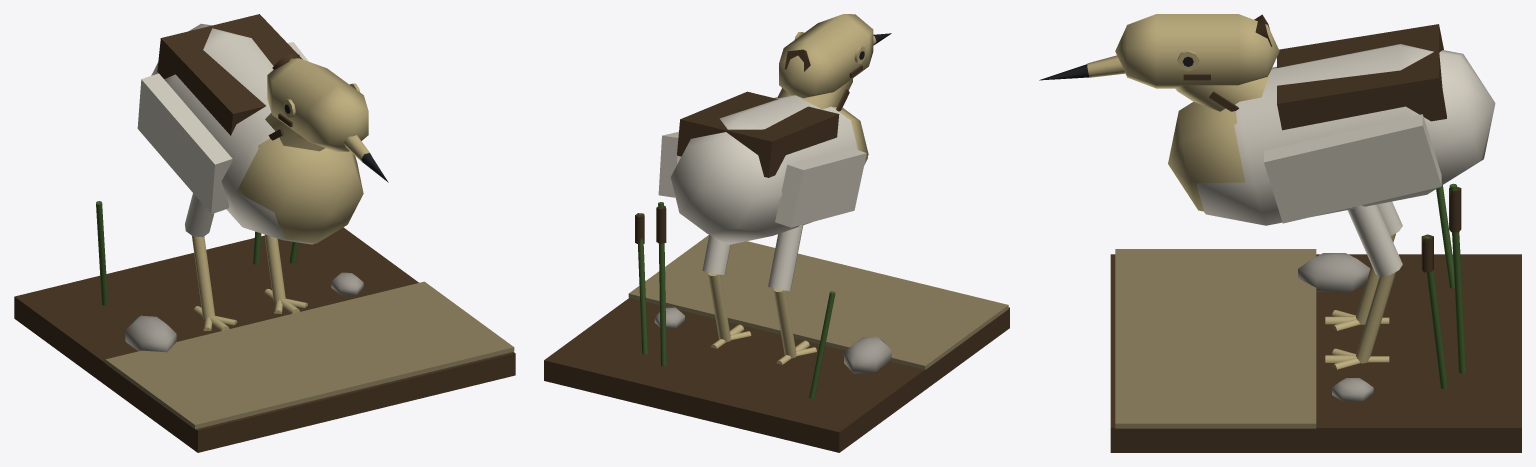
Rendered from chinese-pond-heron-standing.glb.
The picture shows the model from 3 angles, left to right: view 1: azimuth 30°, elevation 25°; view 2: azimuth 150°, elevation 25°; view 3: azimuth 270°, elevation 25°; orthographic projection. The views are drawn at different scales.
Parts seen in each view (by area): view 1: Mesh_MudBase, Mesh_WaterOverlay, Mesh_Body_Breast, Mesh_Body_Main, Mesh_Body_Mantle, Mesh_Wing_L, Mesh_Head, Mesh_RockLeft, Mesh_LegBare_L, Mesh_LegBare_R, Mesh_LegFeather_L, Mesh_Reed3_Stem (+2 smaller); view 2: Mesh_MudBase, Mesh_WaterOverlay, Mesh_Body_Main, Mesh_Body_Mantle, Mesh_Head, Mesh_Wing_L, Mesh_LegFeather_L, Mesh_RockLeft, Mesh_Wing_R, Mesh_LegBare_L, Mesh_LegBare_R, Mesh_Reed2_Stem (+4 smaller); view 3: Mesh_MudBase, Mesh_WaterOverlay, Mesh_Body_Main, Mesh_Wing_R, Mesh_Body_Mantle, Mesh_Head, Mesh_Body_Breast, Mesh_RockLeft, Mesh_LegFeather_R, Mesh_Neck, Mesh_LegBare_R, Mesh_Reed2_Stem (+7 smaller).
Part boxes in pixels (x1,y1,x2,y2): Mesh_MudBase: [14, 227, 515, 452]; Mesh_WaterOverlay: [105, 281, 514, 429]; Mesh_Body_Breast: [236, 137, 363, 243]; Mesh_Body_Main: [151, 23, 356, 244]; Mesh_Body_Mantle: [157, 14, 302, 135]; Mesh_Wing_L: [137, 73, 232, 213]; Mesh_Head: [267, 58, 368, 151]; Mesh_RockLeft: [125, 315, 176, 352]; Mesh_LegBare_L: [191, 235, 215, 319]; Mesh_LegBare_R: [264, 234, 285, 302]; Mesh_LegFeather_L: [185, 193, 214, 237]; Mesh_Reed3_Stem: [96, 201, 107, 305]; Mesh_MudBase: [544, 298, 1009, 452]; Mesh_WaterOverlay: [628, 235, 1008, 369]; Mesh_Body_Main: [670, 95, 867, 244]; Mesh_Body_Mantle: [677, 91, 839, 177]; Mesh_Head: [779, 14, 873, 98]; Mesh_Wing_L: [775, 147, 866, 227]; Mesh_LegFeather_L: [768, 224, 803, 290]; Mesh_RockLeft: [844, 336, 891, 373]; Mesh_Wing_R: [658, 131, 680, 197]; Mesh_LegBare_L: [773, 288, 796, 358]; Mesh_LegBare_R: [708, 272, 730, 342]; Mesh_Reed2_Stem: [658, 202, 666, 366]; Mesh_MudBase: [1110, 254, 1521, 452]; Mesh_WaterOverlay: [1115, 249, 1316, 428]; Mesh_Body_Main: [1196, 44, 1495, 225]; Mesh_Wing_R: [1264, 114, 1441, 223]; Mesh_Body_Mantle: [1277, 24, 1446, 130]; Mesh_Head: [1115, 14, 1279, 88]; Mesh_Body_Breast: [1168, 101, 1244, 211]; Mesh_RockLeft: [1298, 253, 1370, 291]; Mesh_LegFeather_R: [1347, 204, 1402, 276]; Mesh_Neck: [1175, 71, 1270, 111]; Mesh_LegBare_R: [1356, 272, 1395, 363]; Mesh_Reed2_Stem: [1449, 183, 1465, 373].
Bounding box in the file's own units: 0.452 × 0.425 × 0.5293.
4 materials, 4 textured.
